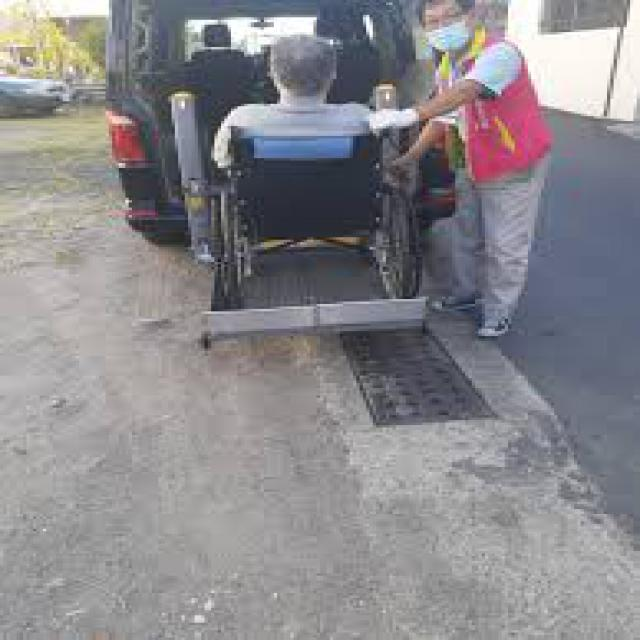wheelchairs: (202, 118, 436, 294)
